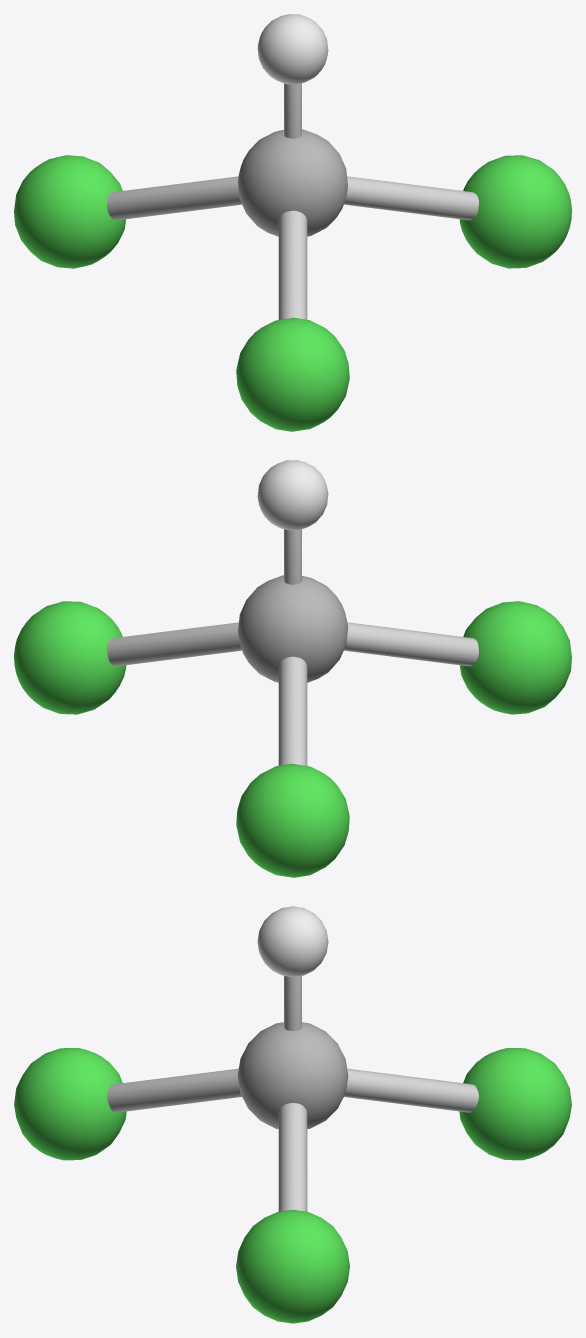
The model's file is CCl3H.fbx.
3 renders of one model, top to bottom at view 1: azimuth 30°, elevation 25°; view 2: azimuth 150°, elevation 25°; view 3: azimuth 270°, elevation 25°, orthographic.
Visible parts, largest first — view 1: Atom_3_CL, Atom_2_CL, Atom_4_CL, Atom_0_C, Atom_1_H, Bond_003, Bond_001, Bond_002, Bond; view 2: Atom_4_CL, Atom_2_CL, Atom_3_CL, Atom_0_C, Atom_1_H, Bond_002, Bond_001, Bond_003, Bond; view 3: Atom_2_CL, Atom_4_CL, Atom_3_CL, Atom_0_C, Atom_1_H, Bond_003, Bond_002, Bond_001, Bond.
Boxes of the visible parts, box(x1,y1,x2,y2) form: Atom_3_CL: box(236, 317, 349, 431); Atom_2_CL: box(459, 155, 571, 268); Atom_4_CL: box(14, 155, 125, 268); Atom_0_C: box(238, 129, 347, 236); Atom_1_H: box(257, 14, 328, 84); Bond_003: box(107, 176, 241, 220); Bond_001: box(344, 176, 478, 220); Bond_002: box(278, 210, 307, 319); Bond: box(284, 83, 301, 138); Atom_4_CL: box(236, 763, 349, 877); Atom_2_CL: box(14, 601, 126, 714); Atom_3_CL: box(460, 601, 571, 714); Atom_0_C: box(238, 575, 347, 682); Atom_1_H: box(257, 460, 328, 530); Bond_002: box(344, 622, 478, 666); Bond_001: box(107, 622, 241, 666); Bond_003: box(278, 656, 307, 765); Bond: box(284, 529, 301, 584); Atom_2_CL: box(236, 1209, 349, 1323); Atom_4_CL: box(459, 1048, 571, 1160); Atom_3_CL: box(14, 1048, 126, 1160); Atom_0_C: box(237, 1022, 348, 1128); Atom_1_H: box(257, 906, 328, 977); Bond_003: box(344, 1068, 478, 1112); Bond_002: box(107, 1068, 241, 1112); Bond_001: box(278, 1103, 307, 1211); Bond: box(284, 976, 301, 1030).
Bounding box in the file's own units: 3.06 × 2.03 × 3.43.
